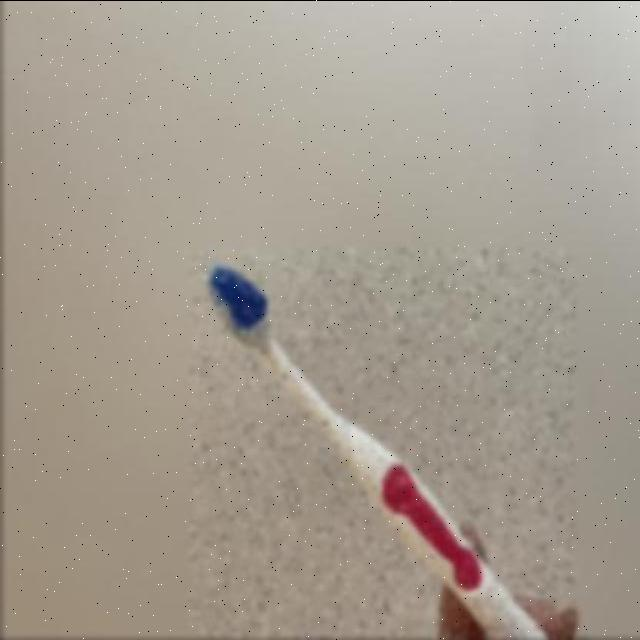toothbrush: (190, 250, 574, 640)
